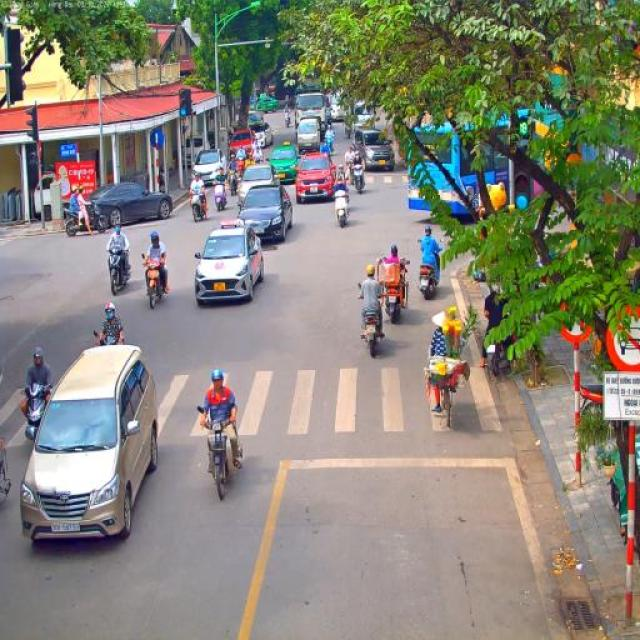bus: (407, 108, 587, 220)
car: (19, 342, 160, 552), (193, 218, 265, 306), (88, 182, 173, 229), (236, 184, 294, 245), (295, 152, 335, 202), (236, 162, 280, 206), (353, 129, 395, 171), (188, 148, 228, 191), (266, 140, 300, 182), (228, 130, 256, 165), (248, 120, 274, 149), (256, 95, 280, 114)
motorcycle: (196, 406, 244, 500), (11, 382, 50, 451), (376, 257, 412, 323), (356, 282, 386, 358), (61, 196, 110, 238), (417, 236, 444, 300), (141, 254, 170, 310), (480, 337, 514, 382), (105, 246, 133, 296), (333, 190, 351, 228), (188, 188, 207, 223), (580, 383, 604, 408), (93, 330, 126, 346), (212, 180, 228, 212), (352, 162, 366, 194), (226, 167, 240, 194), (235, 155, 246, 184), (344, 160, 354, 184), (325, 137, 334, 153), (284, 112, 292, 127), (246, 155, 256, 166), (254, 154, 264, 164)
truck: (294, 86, 327, 132), (345, 102, 375, 143), (296, 117, 322, 155), (326, 95, 346, 123)
